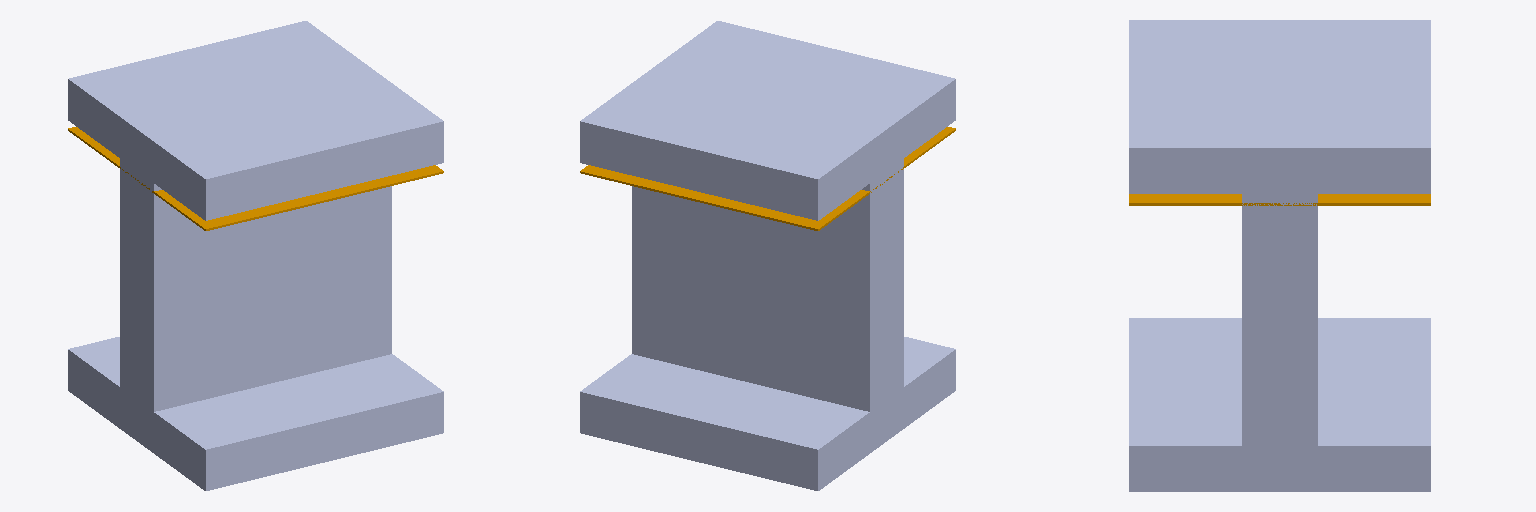
robot.urdf — cube_id_11:
<?xml version="1.0" encoding="utf-8"?>
<!-- This URDF was automatically created by SolidWorks to URDF Exporter! Originally created by Stephen Brawner (brawner@gmail.com) 
     Commit Version: 1.6.0-4-g7f85cfe  Build Version: 1.6.7995.38578
     For more information, please see http://wiki.ros.org/sw_urdf_exporter -->
<robot
  name="cube_id_11">
  <link
    name="marker_id_11">
    <inertial>
      <origin
        xyz="-5.2042E-18 -1.3878E-17 -0.0005"
        rpy="0 0 0" />
      <mass
        value="0.0144" />
      <inertia
        ixx="1.7281E-05"
        ixy="9.035E-22"
        ixz="3.1546E-36"
        iyy="1.7281E-05"
        iyz="-6.0329E-20"
        izz="3.456E-05" />
    </inertial>
    <visual>
      <origin
        xyz="0 0 0"
        rpy="0 0 0" />
      <geometry>
        <mesh
          filename="package://robot_custom_description/models/markers/marker_11.dae" />
      </geometry>
    </visual>
  </link>
  <link
    name="cube_id_11/cube_link">
    <inertial>
      <origin
        xyz="-1.7347E-18 -1.3878E-17 1.3878E-17"
        rpy="0 0 0" />
      <mass
        value="0.2" />
      <inertia
        ixx="0.001713"
        ixy="2.8354E-19"
        ixz="-9.9494E-20"
        iyy="0.001956"
        iyz="1.0676E-18"
        izz="0.0016578" />
    </inertial>
    <visual>
      <origin
        xyz="0 0 0"
        rpy="0 0 0" />
      <geometry>
        <mesh
          filename="package://robot_custom_description/models/cube_id_11/meshes/cube_link.STL" />
      </geometry>
      <material
        name="">
        <color
          rgba="0.79216 0.81961 0.93333 1" />
      </material>
    </visual>
    <collision>
      <origin
        xyz="0 0 0"
        rpy="0 0 0" />
      <geometry>
        <mesh
          filename="package://robot_custom_description/models/cube_id_11/meshes/cube_link.STL" />
      </geometry>
    </collision>
  </link>
  <joint
    name="cube_id_11/cube_joint"
    type="fixed">
    <origin
      xyz="0 0 -0.051"
      rpy="0 0 0" />
    <parent
      link="marker_id_11" />
    <child
      link="cube_id_11/cube_link" />
    <axis
      xyz="0 0 0" />
  </joint>
</robot>

--- What the picture shows (computed from the rendered views, not written in the file) ---
Views: 3 orthographic renders of the robot side by side, from view 1: azimuth 30°, elevation 25°; view 2: azimuth 150°, elevation 25°; view 3: azimuth 270°, elevation 25°.
Robot: cube_id_11 — 2 links, 1 joints (1 fixed); root link marker_id_11; default pose: every joint at zero.
Links seen in each view (by area): view 1: cube_id_11/cube_link, marker_id_11; view 2: cube_id_11/cube_link, marker_id_11; view 3: cube_id_11/cube_link, marker_id_11.
Link boxes in pixels (box(x1,y1,x2,y2)): cube_id_11/cube_link: box(68, 21, 443, 490); marker_id_11: box(68, 127, 443, 230); cube_id_11/cube_link: box(580, 21, 955, 490); marker_id_11: box(580, 127, 955, 230); cube_id_11/cube_link: box(1129, 20, 1430, 491); marker_id_11: box(1129, 194, 1430, 205).
Bounding box of the posed robot: 0.12 × 0.12 × 0.15 m (x, y, z).
2 mesh visuals loaded from 2 distinct referenced files (1 binary STL, 1 Collada DAE).
